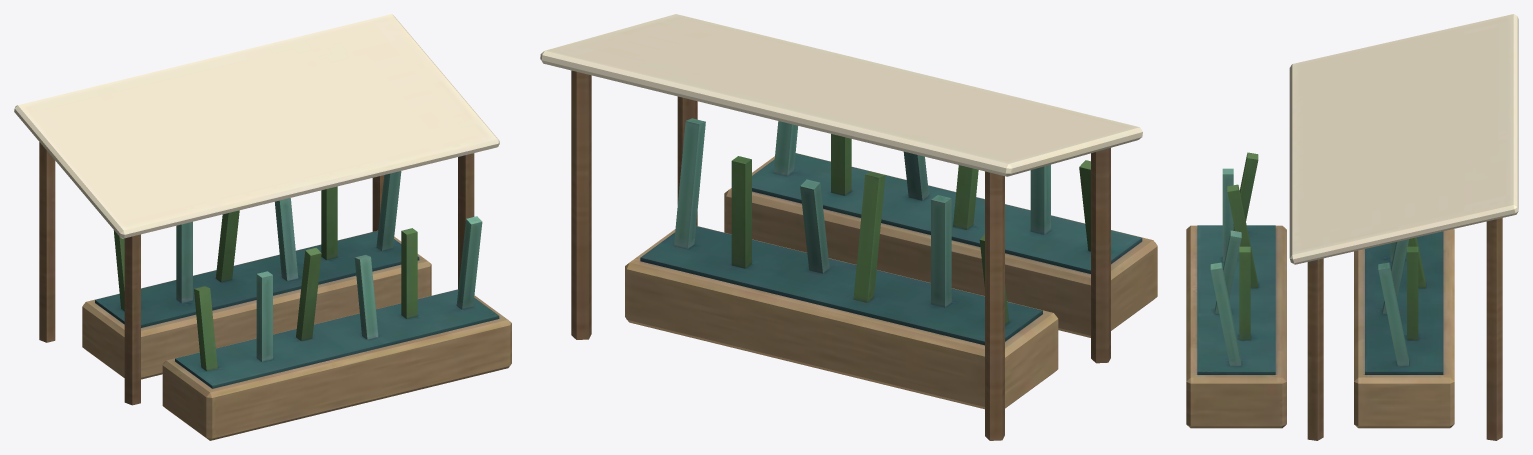
File: greenhouse-1-age1.glb
The picture shows the model from 3 angles, left to right: view 1: azimuth 30°, elevation 25°; view 2: azimuth 150°, elevation 25°; view 3: azimuth 270°, elevation 25°; orthographic projection. The views are drawn at different scales.
Visible parts, largest first — view 1: greenhouse-1-age1; view 2: greenhouse-1-age1; view 3: greenhouse-1-age1.
Boxes of the visible parts, x1,y1,x2,y2 form: greenhouse-1-age1: (14, 14, 511, 440); greenhouse-1-age1: (540, 14, 1157, 440); greenhouse-1-age1: (1186, 14, 1518, 440).
Size of the model in its own units: 0.82 by 0.4791 by 0.5947.
Materials: 1 (1 with a texture image).
